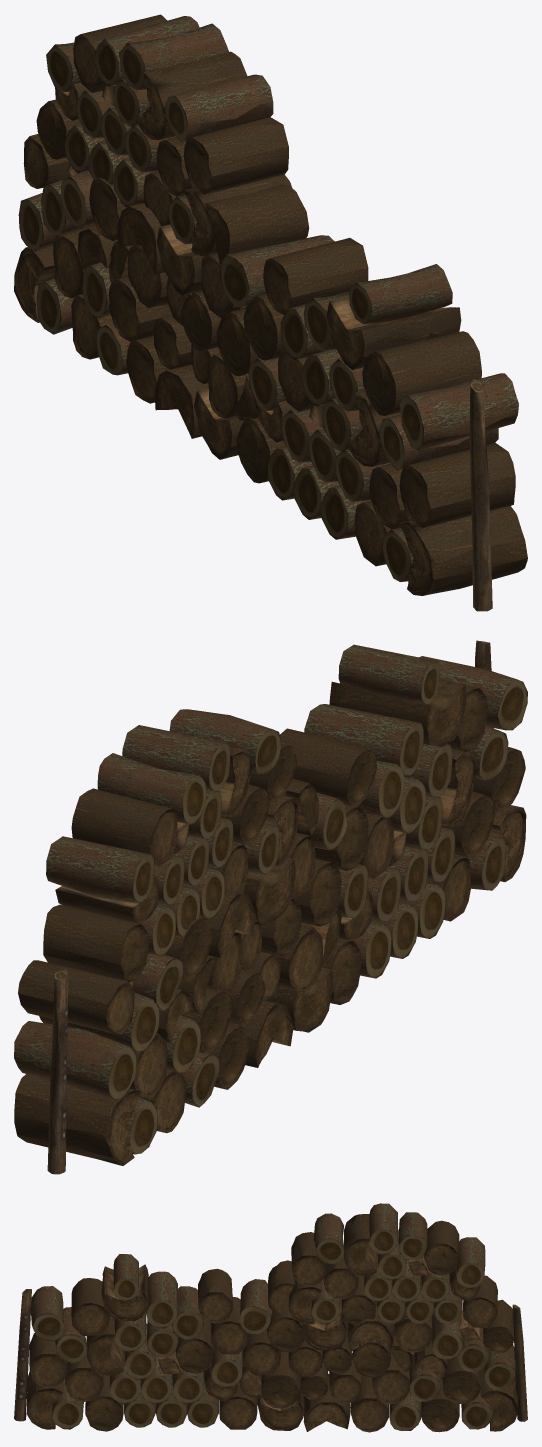
The model's file is SM_LogPile_03.fbx.
The picture shows the model from 3 angles, top to bottom: view 1: azimuth 30°, elevation 25°; view 2: azimuth 150°, elevation 25°; view 3: azimuth 270°, elevation 25°; orthographic projection. The views are drawn at different scales.
Visible parts, largest first — view 1: SM_LogPile_03; view 2: SM_LogPile_03; view 3: SM_LogPile_03.
Boxes of the visible parts, left/top/right/bottom form: SM_LogPile_03: left=14, top=14, right=527, bottom=611; SM_LogPile_03: left=14, top=640, right=527, bottom=1174; SM_LogPile_03: left=14, top=1203, right=527, bottom=1432.
Bounding box in the file's own units: 49.63 × 163 × 372.
